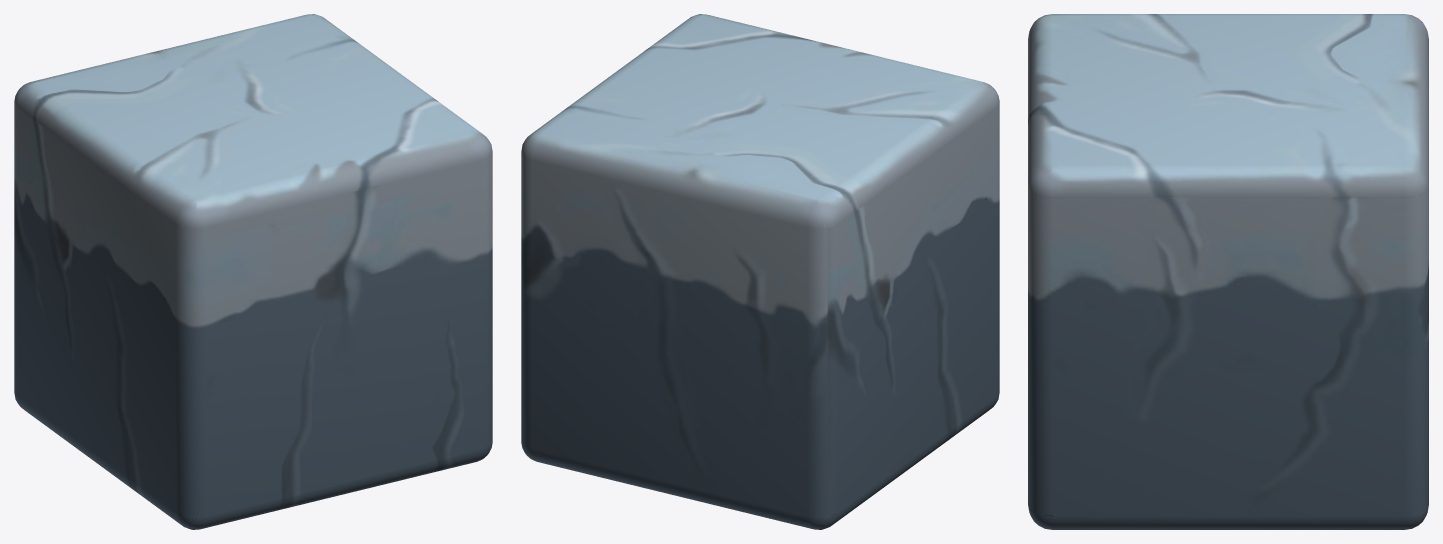
Rendered from New Path block_stone texture2.fbx.
The picture shows the model from 3 angles, left to right: view 1: azimuth 30°, elevation 25°; view 2: azimuth 150°, elevation 25°; view 3: azimuth 270°, elevation 25°; orthographic projection. The views are drawn at different scales.
Parts seen in each view (by area): view 1: Cube.002; view 2: Cube.002; view 3: Cube.002.
Boxes of the visible parts, box(x1,y1,x2,y2) form: Cube.002: box(14, 14, 492, 529); Cube.002: box(521, 14, 999, 529); Cube.002: box(1028, 14, 1428, 529).
Size of the model in its own units: 200 by 200 by 200.
1 material, 1 textured.
